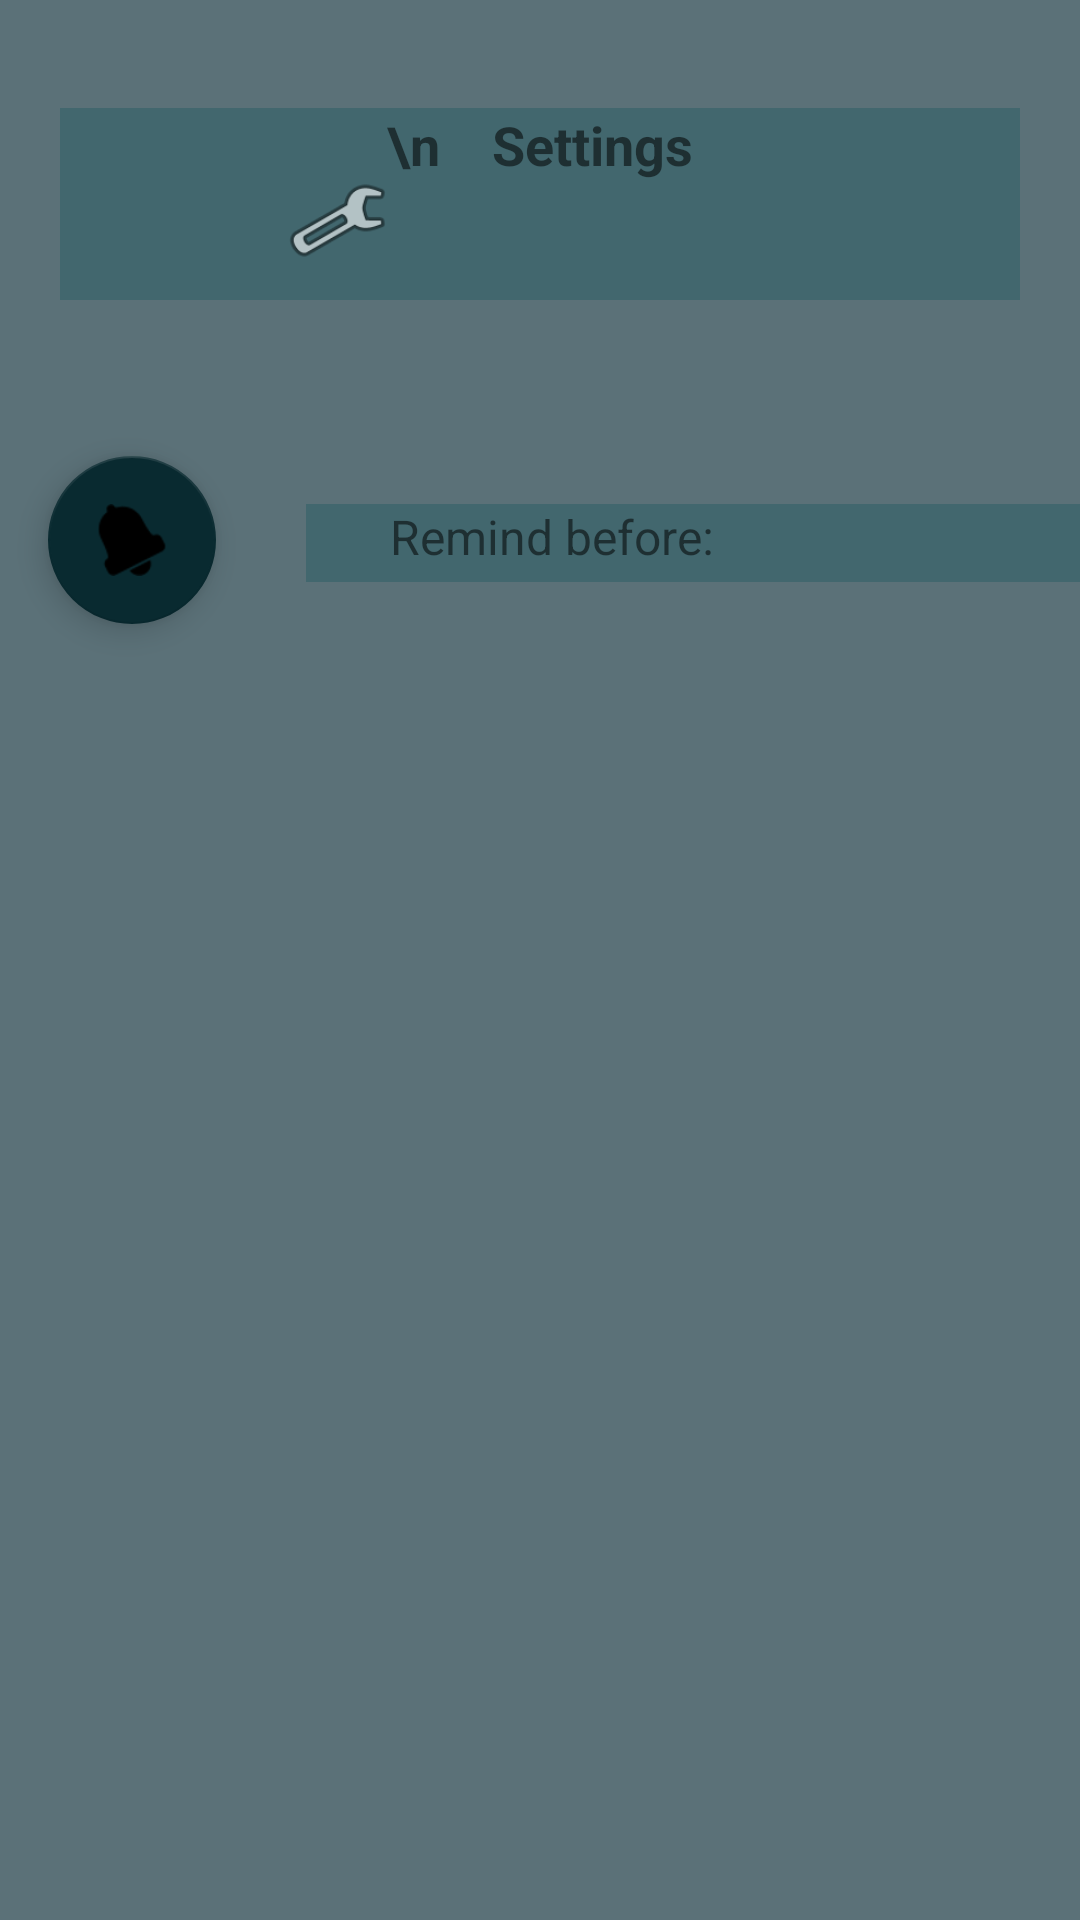

Icons on this 1080px x 1920px Android screen, each with its box as rect(x1, y1, x2, y2):
manage: rect(290, 185, 385, 256)
popup reminder: rect(48, 456, 216, 624)
